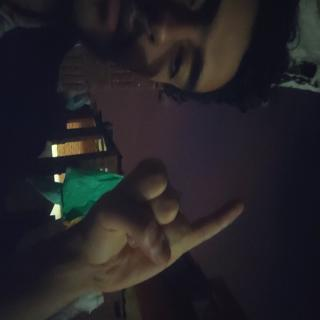MEEM: (117, 94, 227, 320)
